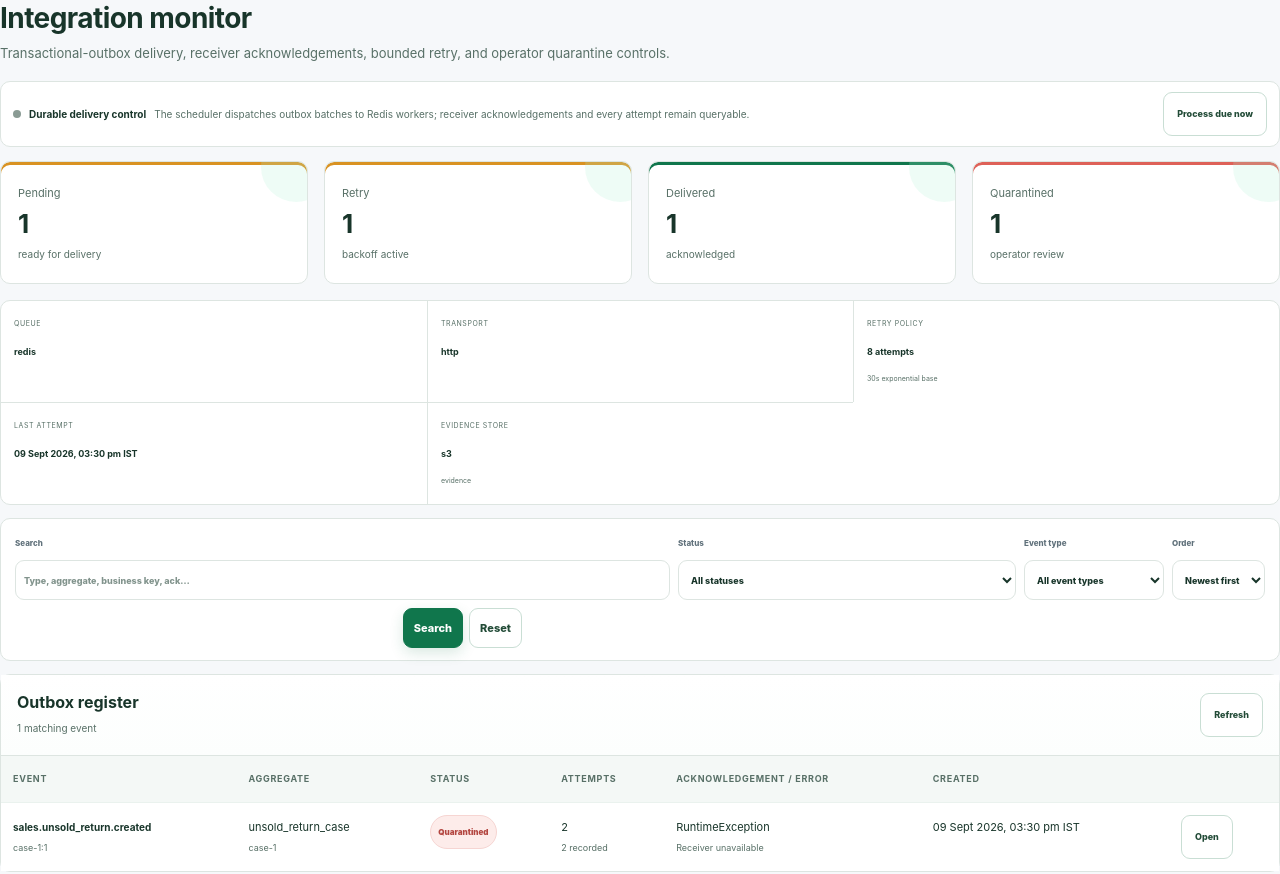
Test: control operations workspaces › runs a bounded outbox batch and reports receiver delivery outcomes
This screenshot has width=1280, height=874.
What coordinates should you click on to do the following:
click the button "Process due now"
I would click on:
 (1215, 114)
Its box is top-left (1163, 92), bottom-right (1267, 136).
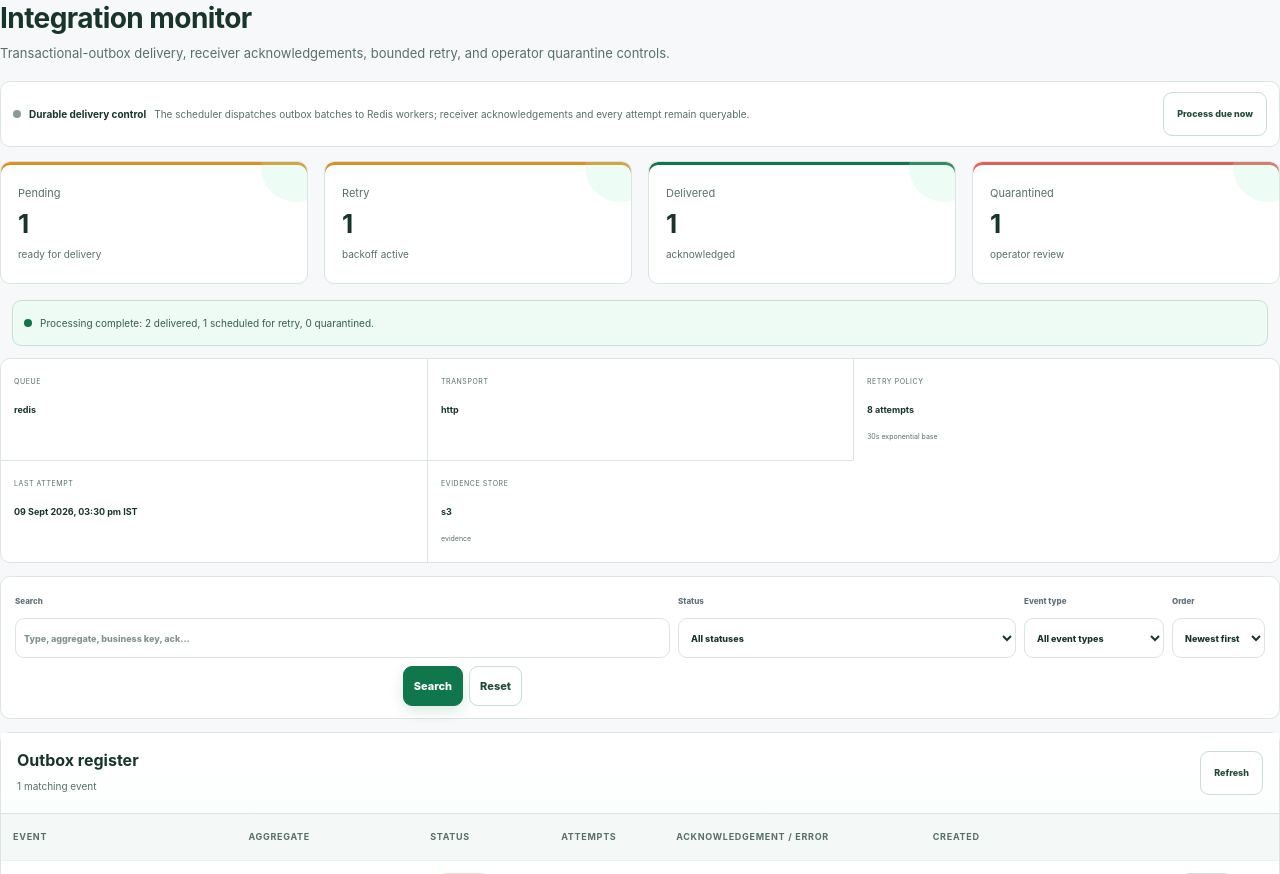
Now the message shows "2 delivered, 1 scheduled for retry", box top-left (40, 317), bottom-right (374, 329)
